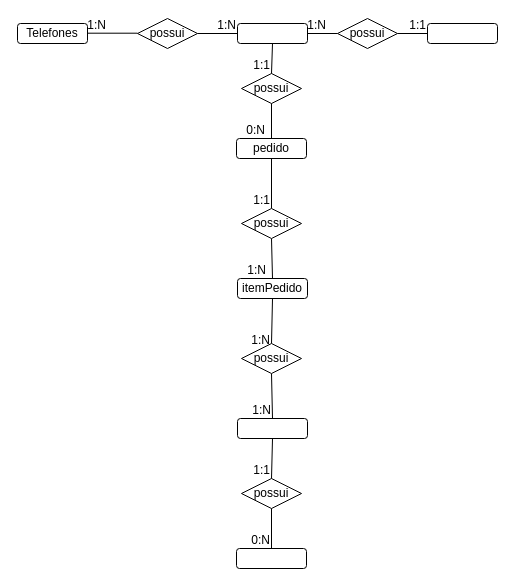
Image size: 515x586. Some labels were removed from this diagram. The shapes that lost their labels are listed below. From the top down, each one's centre as x and y in pixels, then its label:
At (x=272, y=33): "Clientes".
At (x=462, y=33): "Endereços".
At (x=272, y=428): "produtos".
At (x=271, y=558): "Categorias".
